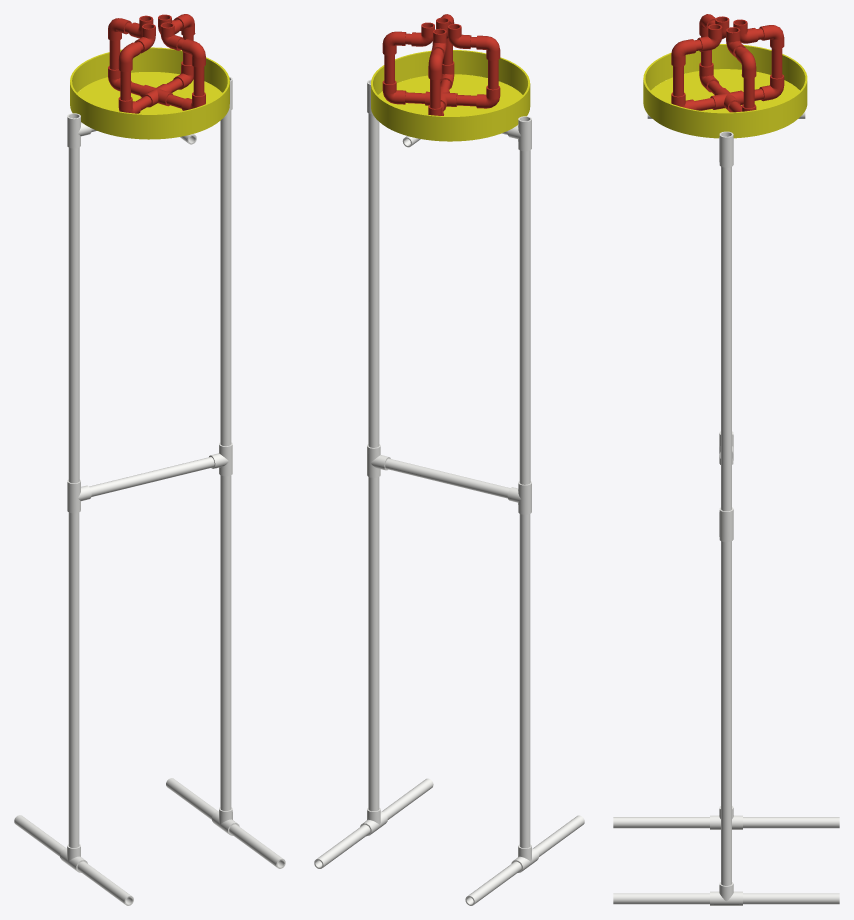
Rendered from Garlic_task.obj.
3 views of the same model, side by side, from view 1: azimuth 30°, elevation 25°; view 2: azimuth 150°, elevation 25°; view 3: azimuth 270°, elevation 25° (orthographic). The views are drawn at different scales.
Visible parts, largest first — view 1: Solid2, Solid1:11, Solid1:10, Solid1:12, Solid1:13, Solid1:19, Solid1:14, Solid1:1, Solid1:3, Solid1:2, Solid1:4, Solid1:8 (+1 smaller); view 2: Solid2, Solid1:10, Solid1:12, Solid1:11, Solid1:13, Solid1:19, Solid1:14, Solid1:2, Solid1:4, Solid1:1, Solid1:3, Solid1:8 (+1 smaller); view 3: Solid2, Solid1:13, Solid1:12, Solid1:19, Solid1:1, Solid1:2, Solid1:3, Solid1:4, Solid1:5, Solid1:9, Solid1:21, Solid1:34 (+1 smaller).
Boxes of the visible parts, x1,y1,x2,y2 form: Solid2: [70, 47, 229, 138]; Solid1:11: [68, 147, 79, 483]; Solid1:10: [68, 512, 79, 847]; Solid1:12: [220, 475, 231, 810]; Solid1:13: [220, 111, 231, 446]; Solid1:19: [77, 72, 222, 139]; Solid1:14: [89, 457, 214, 496]; Solid1:1: [77, 861, 133, 905]; Solid1:3: [229, 824, 285, 868]; Solid1:2: [14, 815, 65, 856]; Solid1:4: [166, 778, 217, 819]; Solid1:8: [67, 113, 91, 148]; Solid2: [371, 50, 530, 140]; Solid1:10: [519, 514, 530, 848]; Solid1:12: [368, 477, 379, 811]; Solid1:11: [519, 150, 530, 484]; Solid1:13: [368, 113, 379, 447]; Solid1:19: [378, 74, 522, 141]; Solid1:14: [385, 458, 510, 498]; Solid1:2: [465, 861, 521, 905]; Solid1:4: [314, 824, 370, 868]; Solid1:1: [533, 815, 584, 856]; Solid1:3: [382, 778, 433, 819]; Solid1:8: [507, 116, 531, 151]; Solid2: [643, 44, 807, 137]; Solid1:13: [721, 166, 731, 511]; Solid1:12: [721, 541, 731, 885]; Solid1:19: [651, 69, 799, 138]; Solid1:1: [613, 817, 709, 828]; Solid1:2: [743, 817, 839, 828]; Solid1:3: [613, 893, 709, 904]; Solid1:4: [743, 893, 839, 904]; Solid1:5: [710, 882, 742, 905]; Solid1:9: [719, 131, 733, 167]; Solid1:21: [710, 87, 743, 112]; Solid1:34: [671, 39, 696, 66].
Size of the model in its own units: 14.59 by 70.03 by 17.
